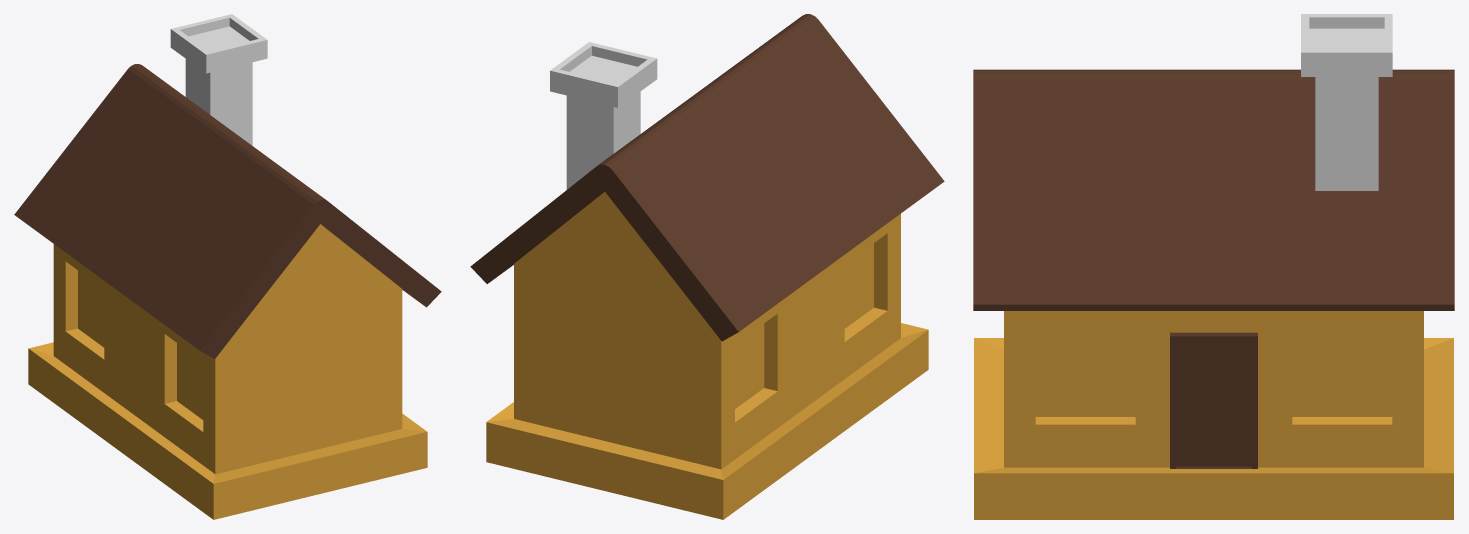
The model's file is casa.glb.
3 renders of one model, left to right at view 1: azimuth 30°, elevation 25°; view 2: azimuth 150°, elevation 25°; view 3: azimuth 270°, elevation 25°, orthographic. The views are drawn at different scales.
Parts seen in each view (by area): view 1: Cube, roof, chemy, window; view 2: Cube, roof, chemy, window; view 3: roof, Cube, window, chemy, Door.
Part boxes in pixels (x1=…): Cube: x1=28, y1=224, x2=427, y2=519; roof: x1=14, y1=64, x2=441, y2=358; chemy: x1=170, y1=14, x2=267, y2=145; window: x1=65, y1=262, x2=203, y2=431; Cube: x1=486, y1=192, x2=928, y2=519; roof: x1=470, y1=14, x2=944, y2=341; chemy: x1=550, y1=42, x2=657, y2=189; window: x1=735, y1=233, x2=887, y2=422; roof: x1=973, y1=69, x2=1454, y2=310; Cube: x1=974, y1=311, x2=1453, y2=519; window: x1=1035, y1=333, x2=1392, y2=424; chemy: x1=1301, y1=14, x2=1392, y2=190; Door: x1=1170, y1=332, x2=1257, y2=468.
Bounding box in the file's own units: 5.18 × 7.03 × 6.88.
